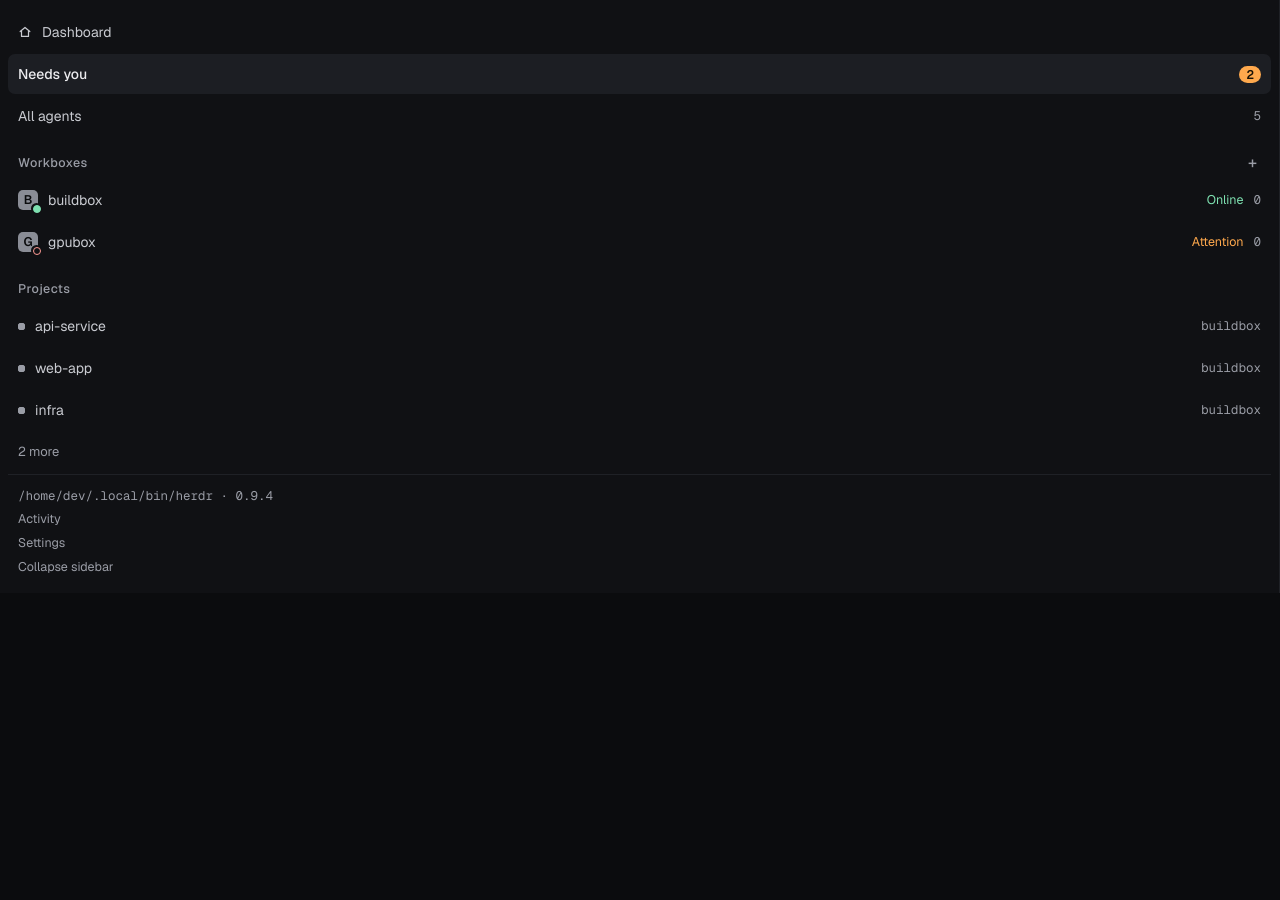
Test: Sidebar › projects_show_three_then_n_more_then_show_fewer
expect the button "Show fewer" is not shown: met
Step 1. Click the button "2 more" → (39, 451), box [8, 432, 1271, 472]
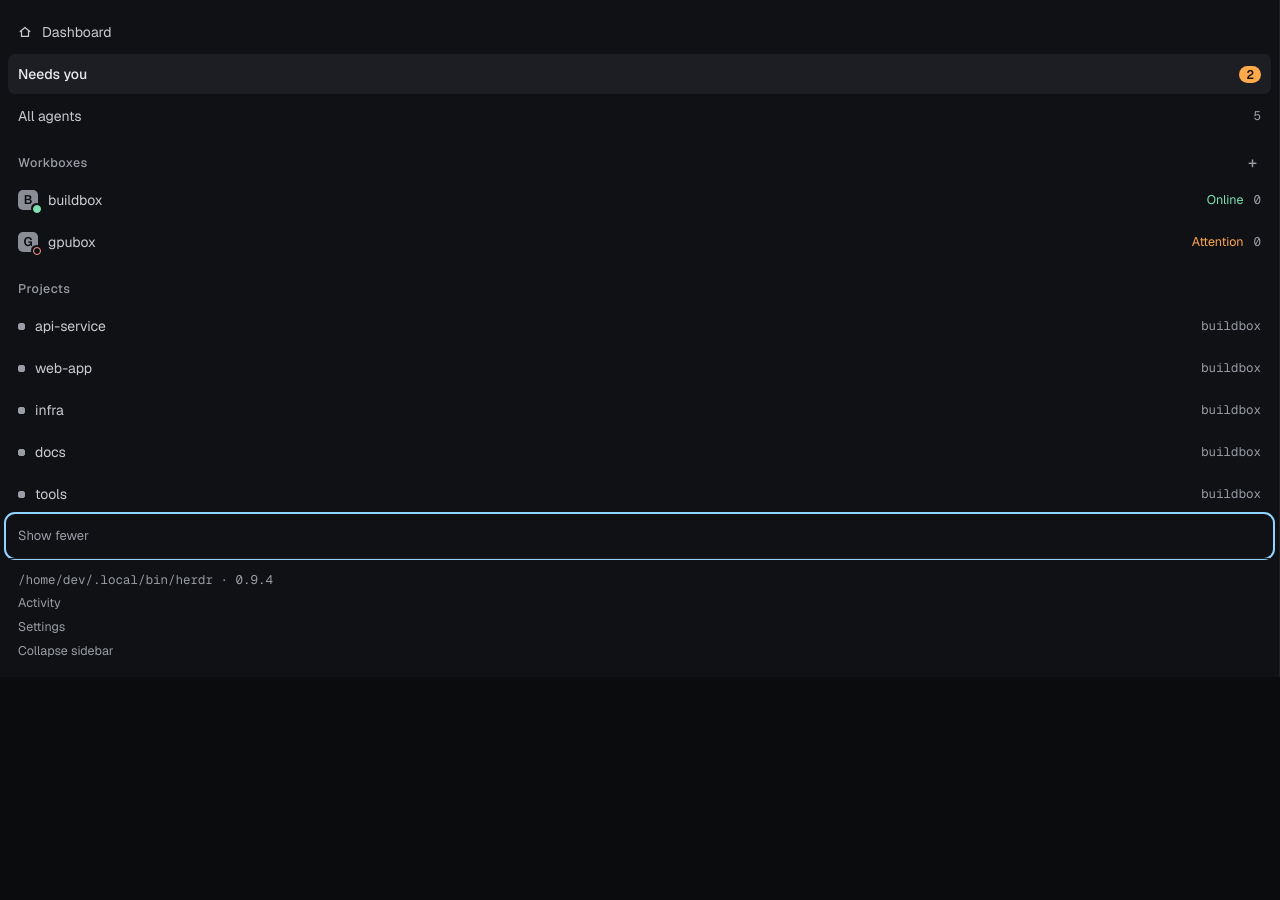
expect the button "2 more" is gone: met
Step 2. Click the button "Show fewer" → (53, 535), box [8, 516, 1271, 556]
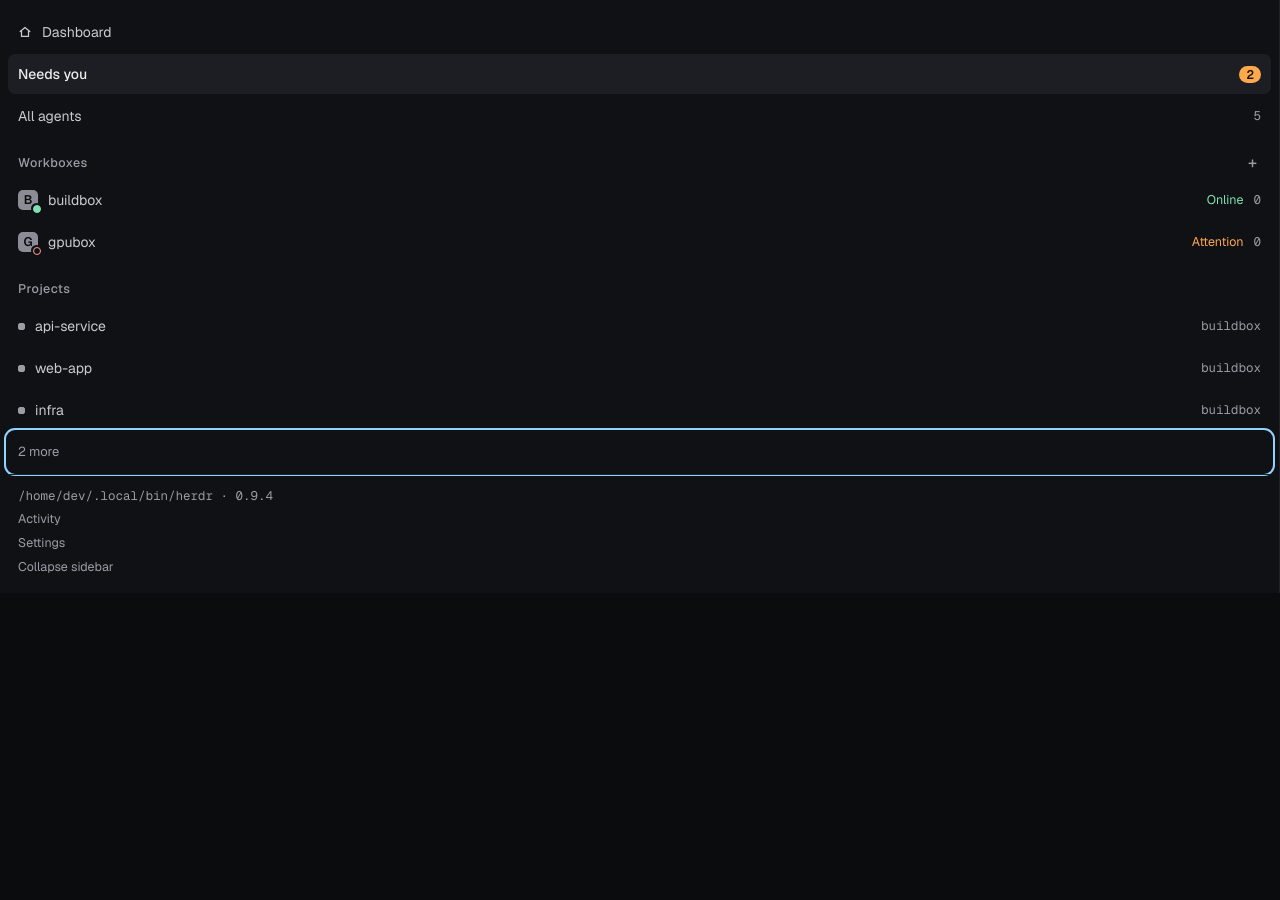
expect the button "2 more" is shown: met, box [8, 432, 1271, 472]
